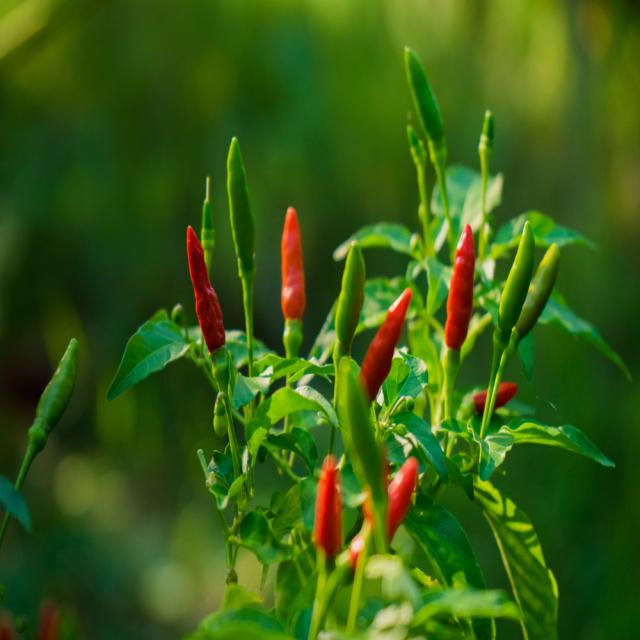Ripe: (359, 287, 411, 401), (186, 227, 225, 351), (445, 225, 475, 350), (314, 455, 342, 558), (281, 206, 306, 320), (386, 457, 419, 541), (476, 381, 519, 414)
Unripe: (15, 339, 79, 491), (406, 47, 446, 169), (515, 244, 560, 338), (498, 221, 535, 334), (334, 242, 365, 363), (228, 137, 255, 261), (201, 197, 215, 271)
